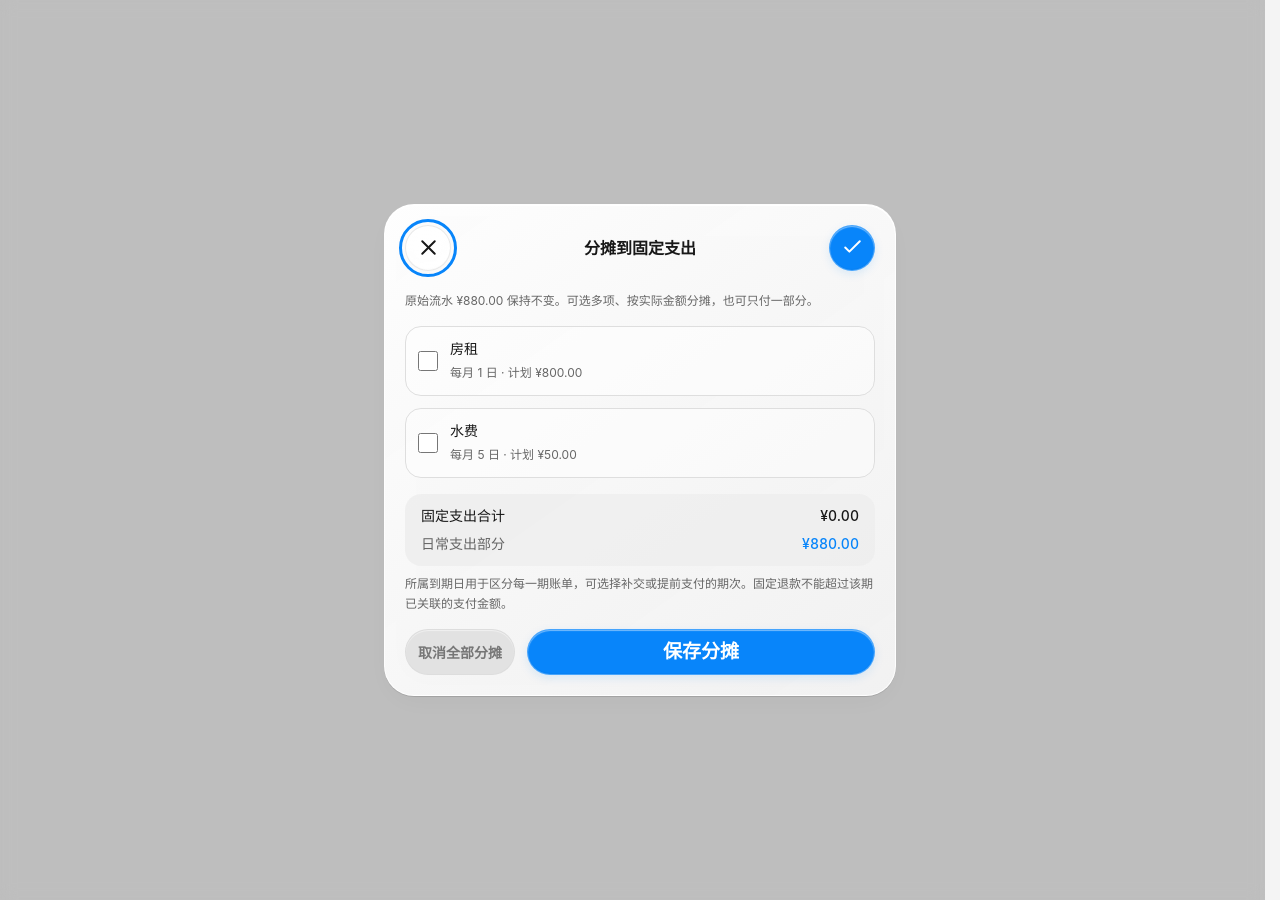
Test: 网络或服务端校验失败保留输入和弹窗，可以重试
Click the checkbox named "选择房租": (428, 361) [418,351,438,371]
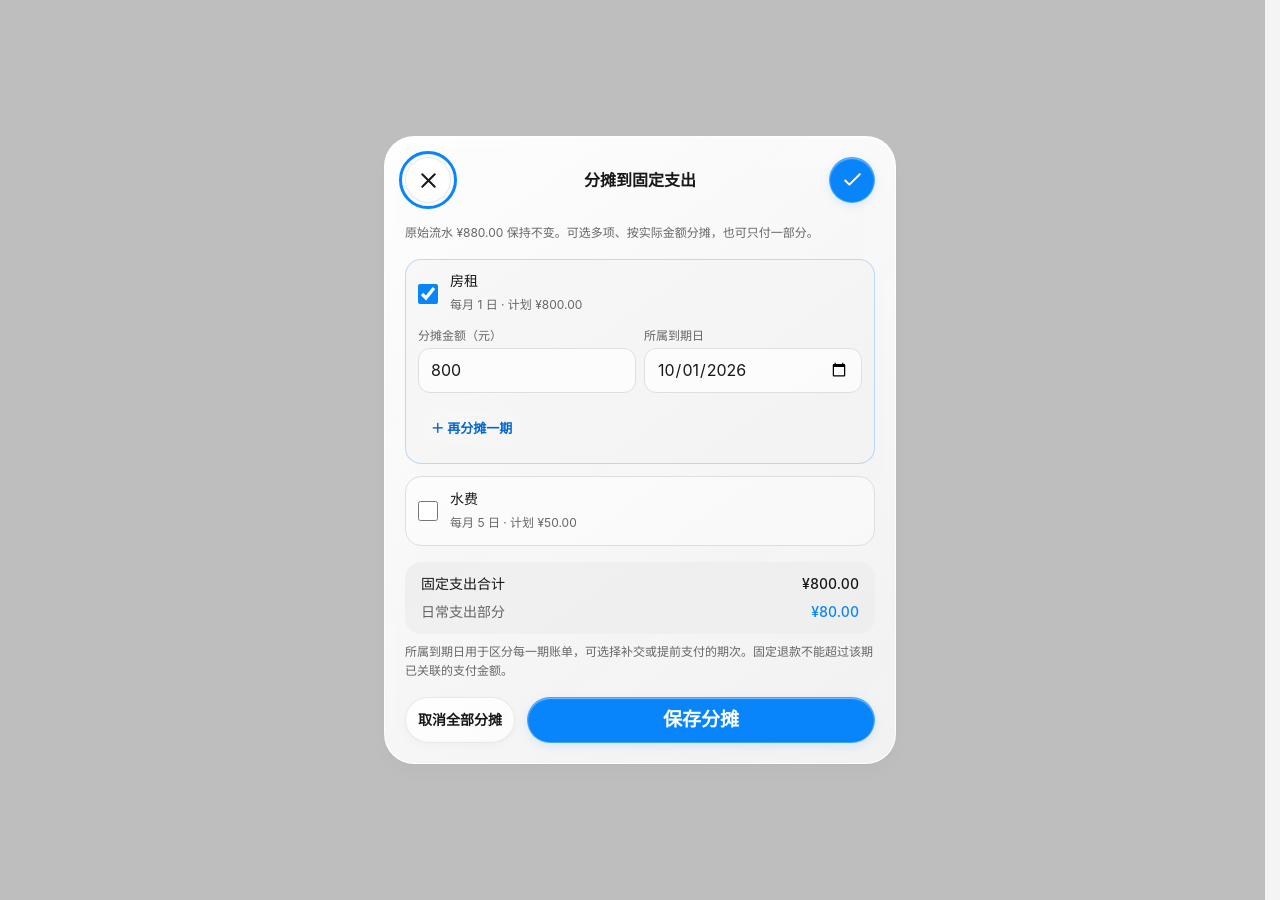
Click the button "保存分摊": (701, 720) [527,697,875,743]
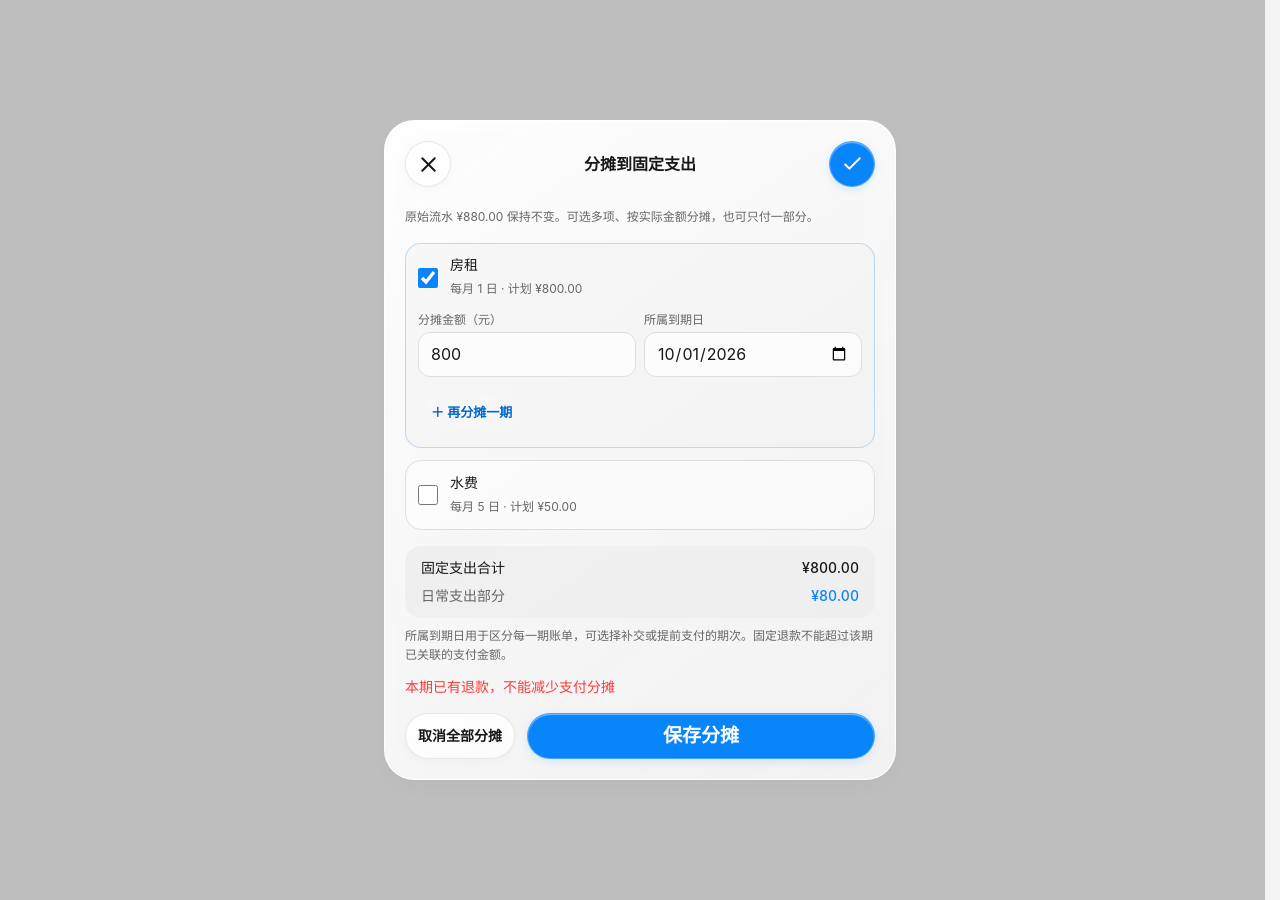
Result: the number field named "房租分摊金额" holds "800" at [418,332,636,377]
Result: the text "本期已有退款，不能减少支付分摊" is shown at [405,678,615,695]
